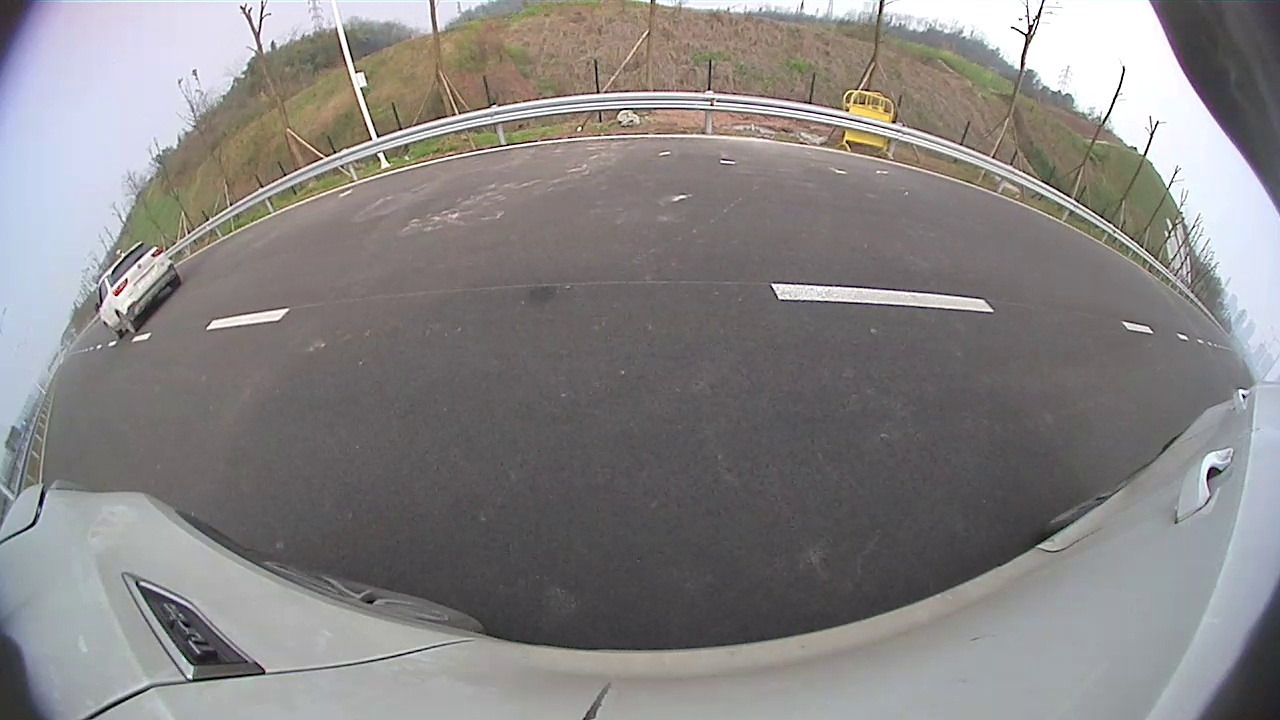car: (96, 240, 182, 338)
rear: (113, 309, 138, 335)
